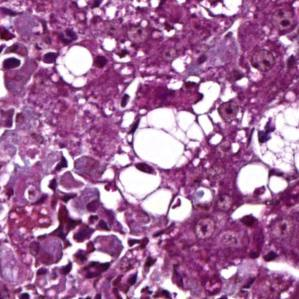ballooning: (134, 107, 207, 171), (249, 101, 299, 178), (56, 43, 95, 90)
